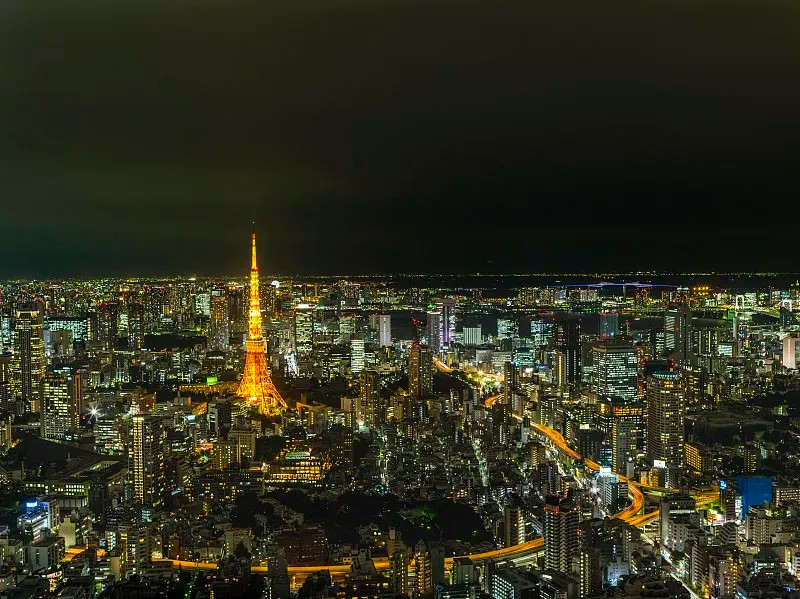Tokyo: (221, 211, 291, 420)
